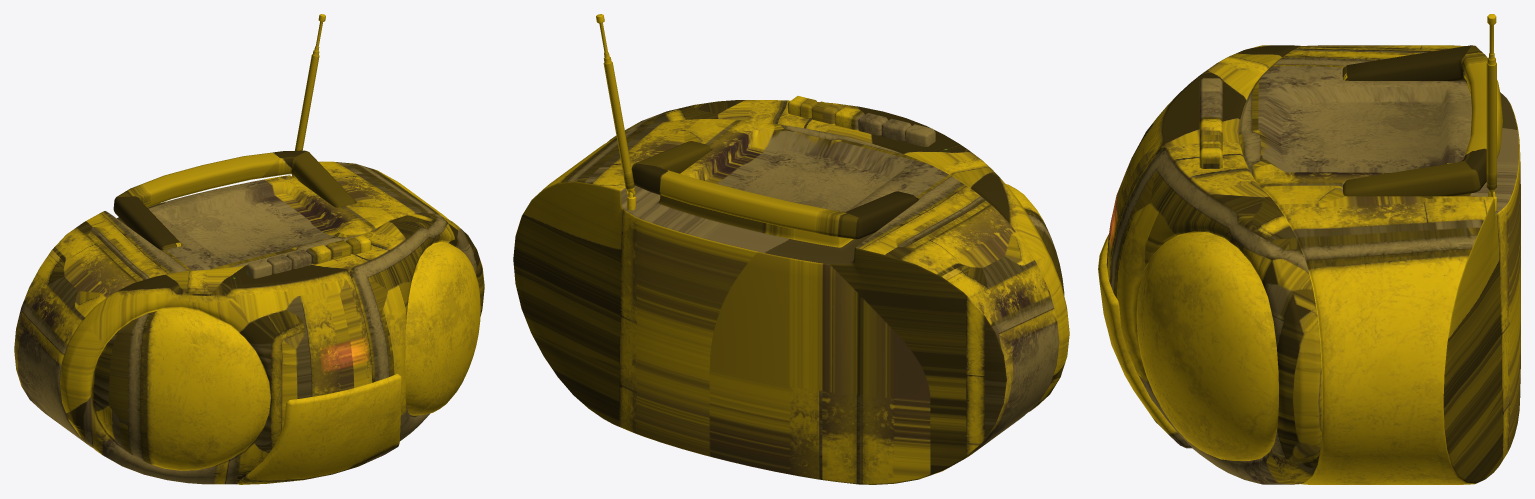
File: CDPlayerOpen.fbx
3 views of the same model, side by side, from view 1: azimuth 30°, elevation 25°; view 2: azimuth 150°, elevation 25°; view 3: azimuth 270°, elevation 25° (orthographic). The views are drawn at different scales.
Parts seen in each view (by area): view 1: Object_2; view 2: Object_2; view 3: Object_2, Object_2.007.
Part boxes in pixels (x1,y1,x2,y2): Object_2: [14, 14, 484, 484]; Object_2: [513, 14, 1069, 484]; Object_2: [1098, 14, 1520, 484]; Object_2.007: [1199, 143, 1222, 168].
Bounding box in the file's own units: 4215 × 3288 × 2725.
